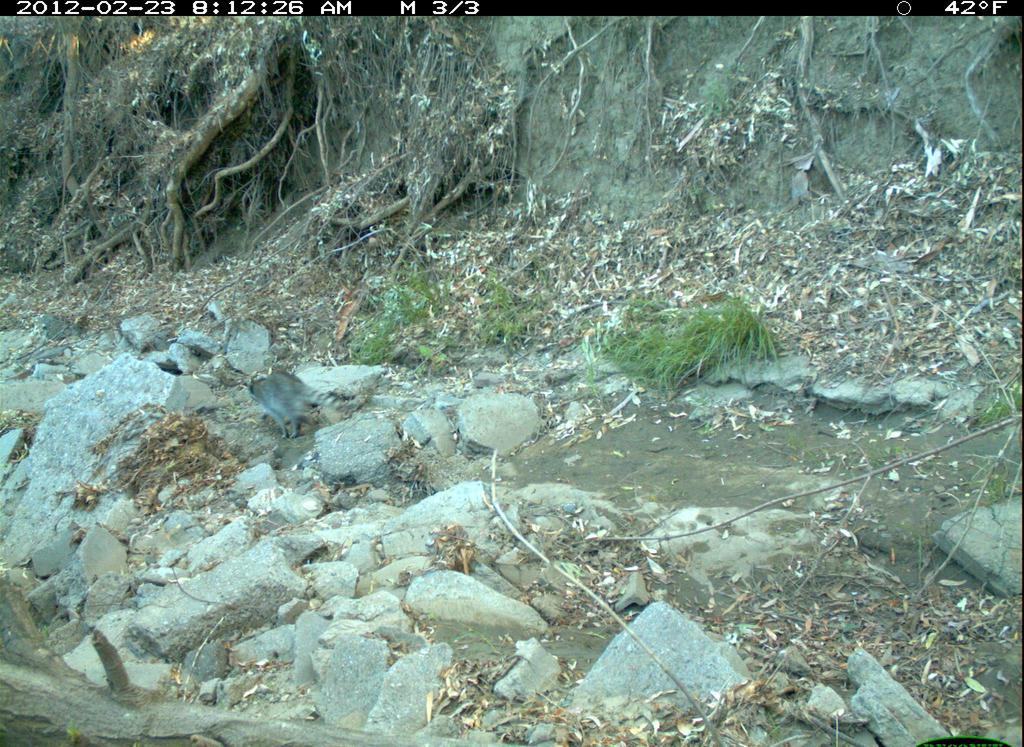raccoon: (241, 363, 358, 442)
